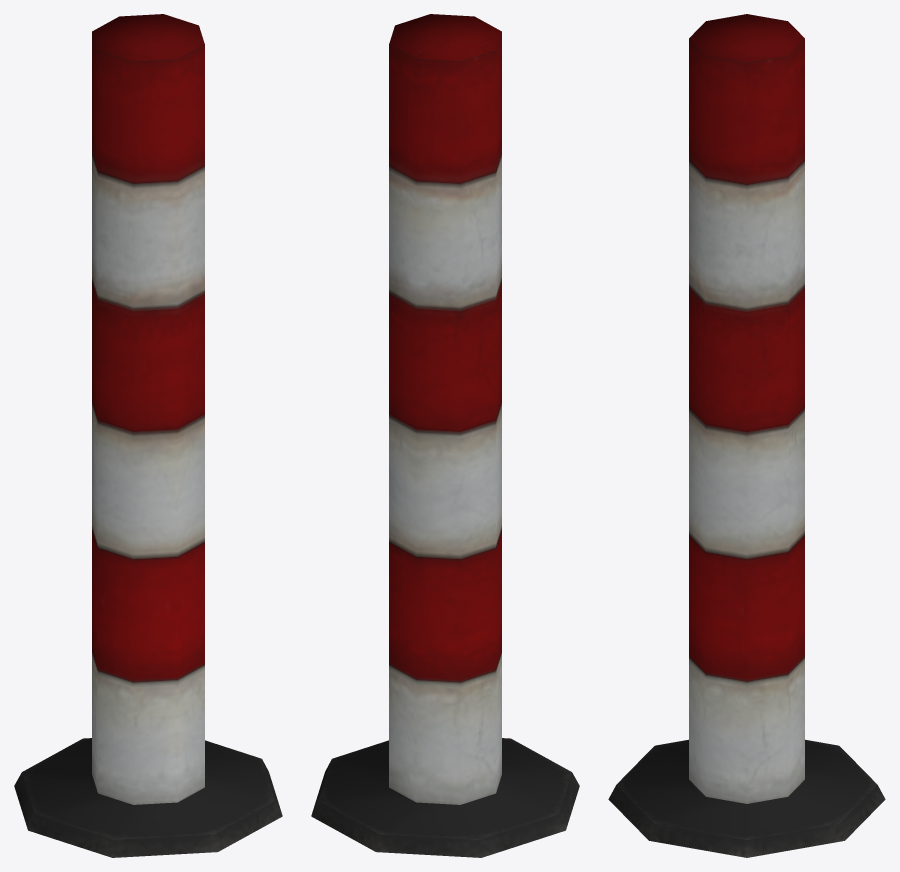
The model's file is duba_02.FBX.
3 renders of one model, left to right at view 1: azimuth 30°, elevation 25°; view 2: azimuth 150°, elevation 25°; view 3: azimuth 270°, elevation 25°, orthographic.
Parts seen in each view (by area): view 1: duba_02; view 2: duba_02; view 3: duba_02.
Boxes of the visible parts, <box> form: duba_02: <box>14,14,282,857</box>; duba_02: <box>311,14,579,857</box>; duba_02: <box>608,14,885,857</box>.
Bounding box in the file's own units: 108 × 327 × 108.
